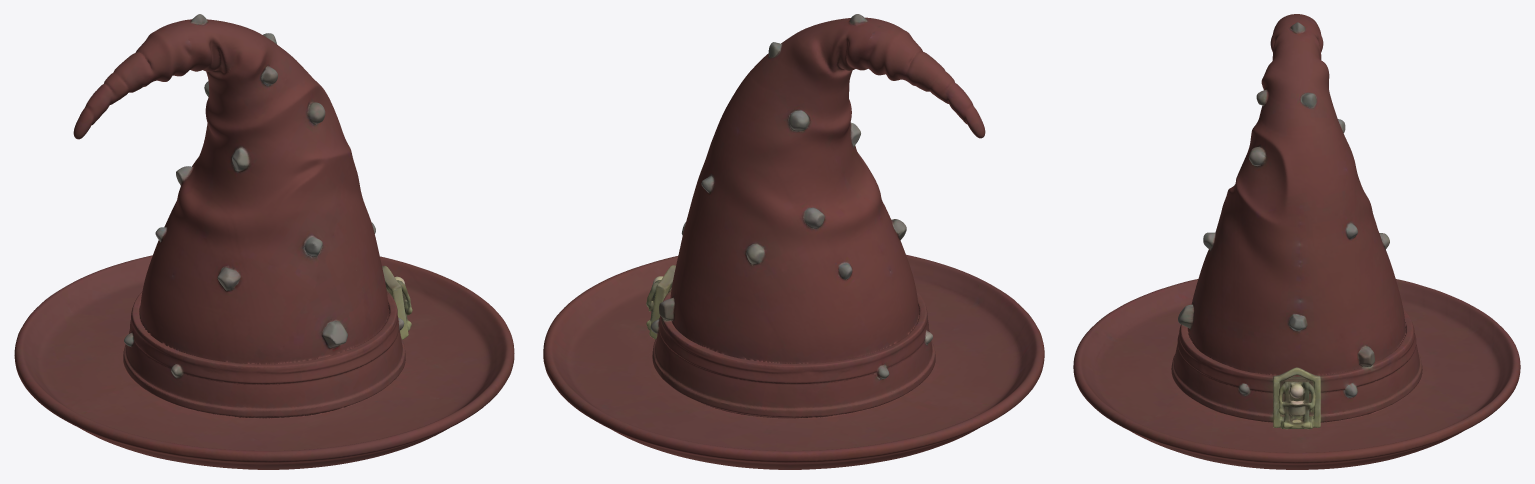
File: detailed_realistic_model_sortinghat_05.glb
The picture shows the model from 3 angles, left to right: view 1: azimuth 30°, elevation 25°; view 2: azimuth 150°, elevation 25°; view 3: azimuth 270°, elevation 25°; orthographic projection. The views are drawn at different scales.
Visible parts, largest first — view 1: tripo_node_78cf9cdb-93e4-406f-9093-29f38be43b71; view 2: tripo_node_78cf9cdb-93e4-406f-9093-29f38be43b71; view 3: tripo_node_78cf9cdb-93e4-406f-9093-29f38be43b71.
Boxes of the visible parts, box(x1,y1,x2,y2) form: tripo_node_78cf9cdb-93e4-406f-9093-29f38be43b71: box(14, 14, 514, 469); tripo_node_78cf9cdb-93e4-406f-9093-29f38be43b71: box(543, 14, 1044, 469); tripo_node_78cf9cdb-93e4-406f-9093-29f38be43b71: box(1073, 14, 1520, 469).
Size of the model in its own units: 0.9995 by 0.9103 by 1.
1 material, 1 textured.
